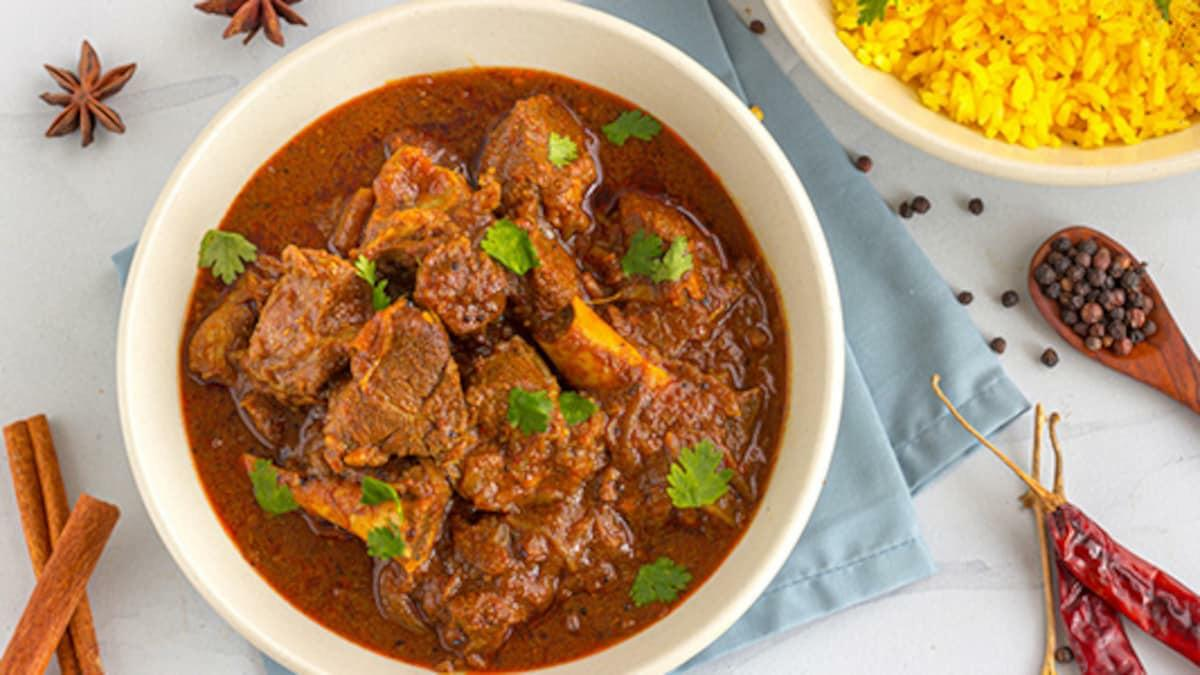MuttonCurry: (181, 67, 787, 675)
